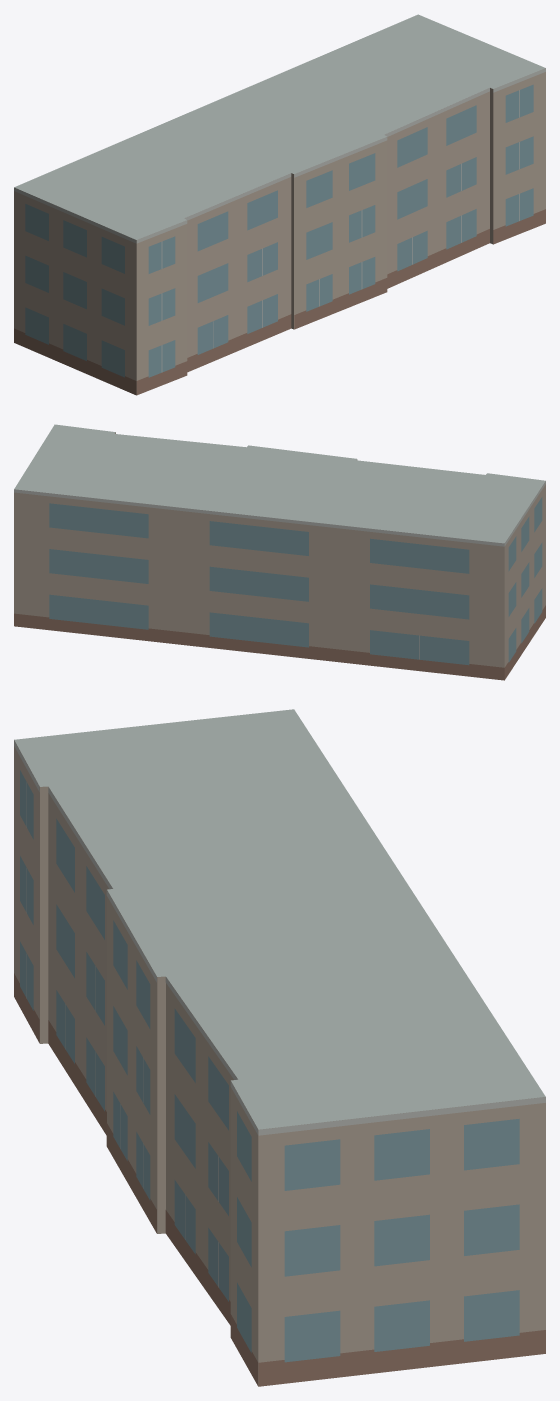
File: survey-upis-32760392.glb
The picture shows the model from 3 angles, top to bottom: view 1: azimuth 30°, elevation 25°; view 2: azimuth 150°, elevation 25°; view 3: azimuth 270°, elevation 25°; orthographic projection. The views are drawn at different scales.
Parts seen in each view (by area): view 1: survey-upis-32760392.tmp; view 2: survey-upis-32760392.tmp; view 3: survey-upis-32760392.tmp.
Part boxes in pixels (x1,y1,x2,y2): survey-upis-32760392.tmp: (14,14,545,395); survey-upis-32760392.tmp: (14,424,545,680); survey-upis-32760392.tmp: (14,709,545,1386).
Bounding box in the file's own units: 36.5 × 10.4 × 19.51.
